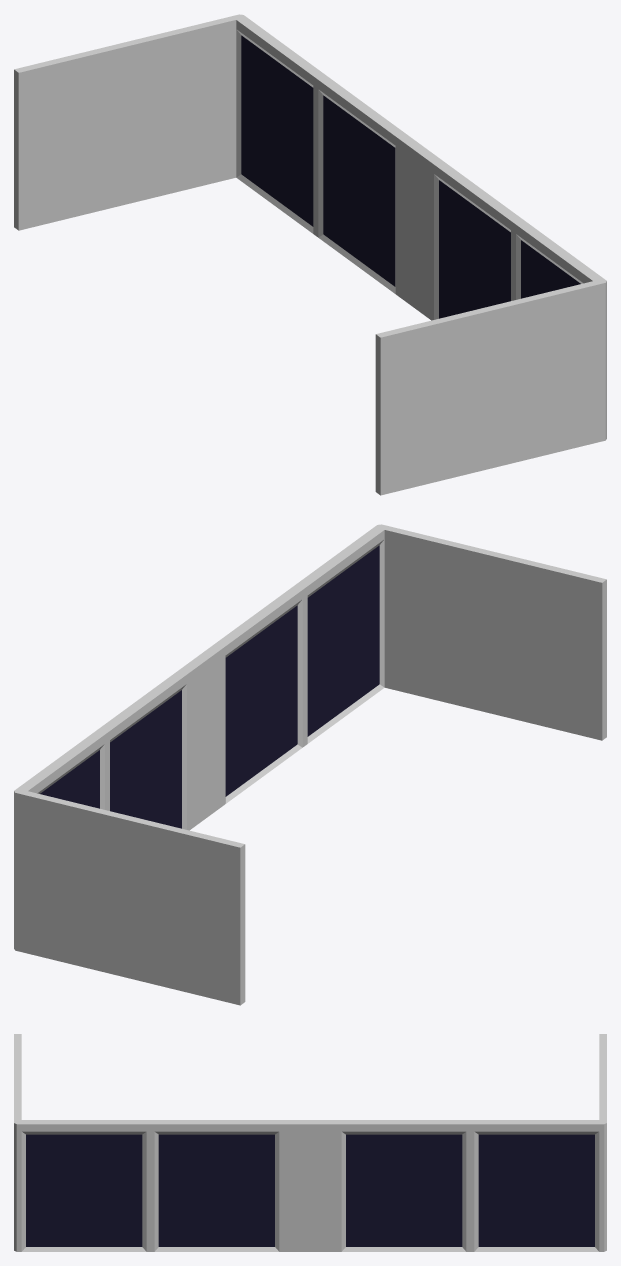
The model's file is garageOffice2.fbx.
The picture shows the model from 3 angles, top to bottom: view 1: azimuth 30°, elevation 25°; view 2: azimuth 150°, elevation 25°; view 3: azimuth 270°, elevation 25°; orthographic projection. The views are drawn at different scales.
Parts seen in each view (by area): view 1: Cube; view 2: Cube; view 3: Cube.
Boxes of the visible parts, left/top/right/bottom form: Cube: left=14, top=14, right=606, bottom=495; Cube: left=14, top=524, right=606, bottom=1005; Cube: left=14, top=1034, right=606, bottom=1251.
Size of the model in its own units: 321 by 212 by 894.
